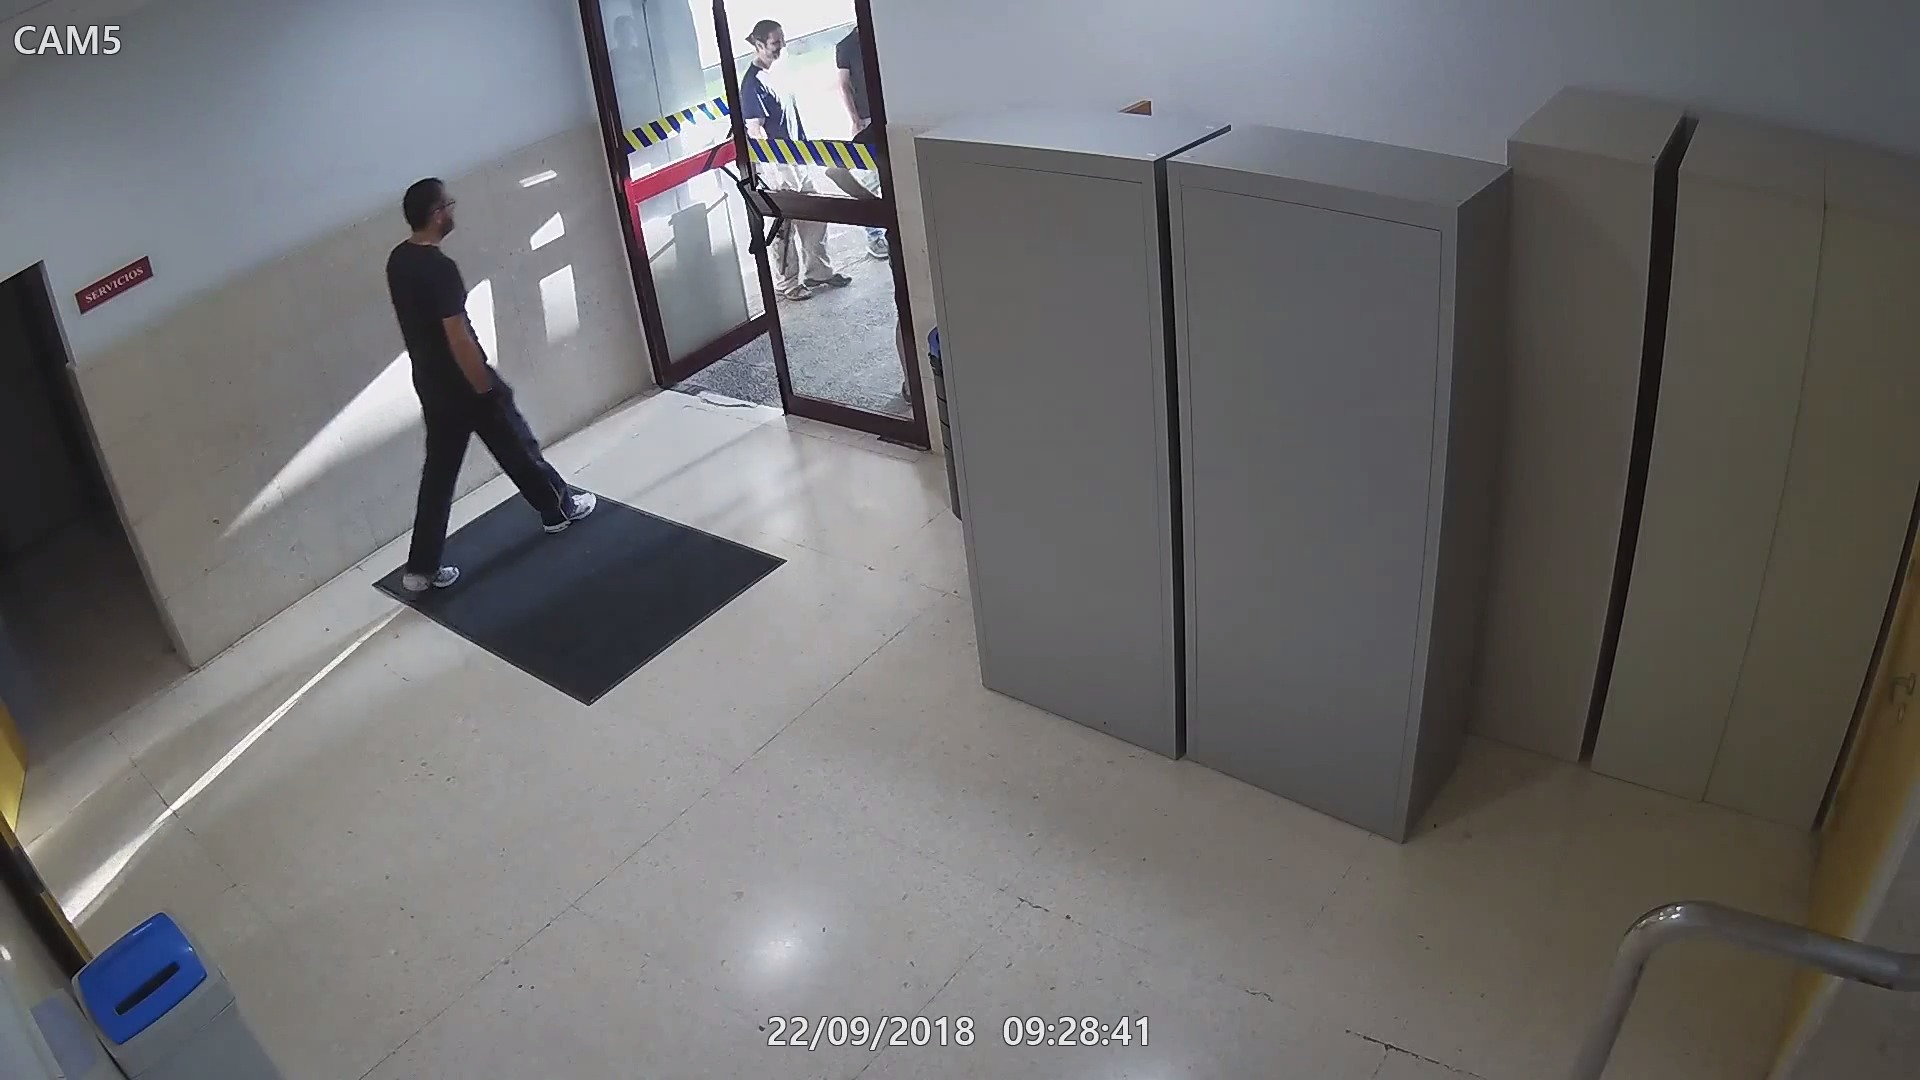Short_rifle: (760, 173, 800, 274)
